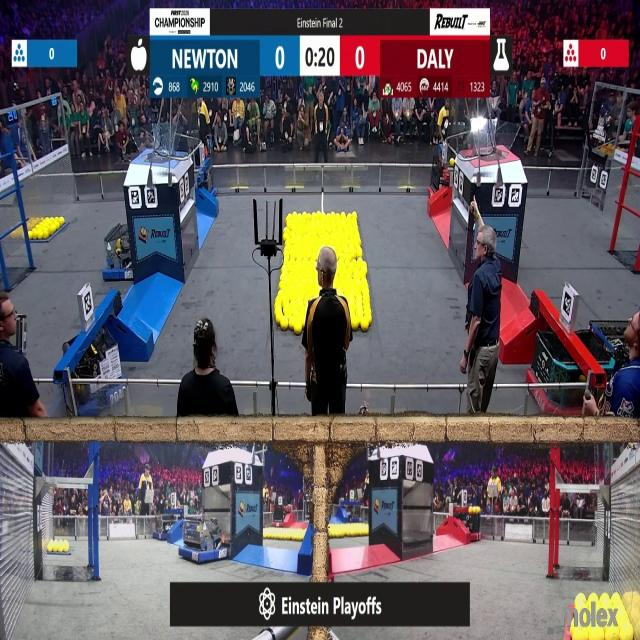ball_ground: (361, 317, 369, 331), (351, 316, 359, 330), (275, 311, 283, 324), (293, 323, 301, 334), (281, 318, 288, 330), (275, 296, 282, 305), (356, 248, 362, 258)
goal: (464, 121, 522, 160), (131, 130, 188, 160)
robot_blue: (52, 318, 125, 414), (181, 516, 230, 564), (102, 226, 136, 281), (195, 167, 219, 197), (152, 516, 180, 540), (338, 502, 365, 522)
robot_red: (530, 340, 589, 416), (426, 167, 453, 207), (455, 507, 482, 543)
